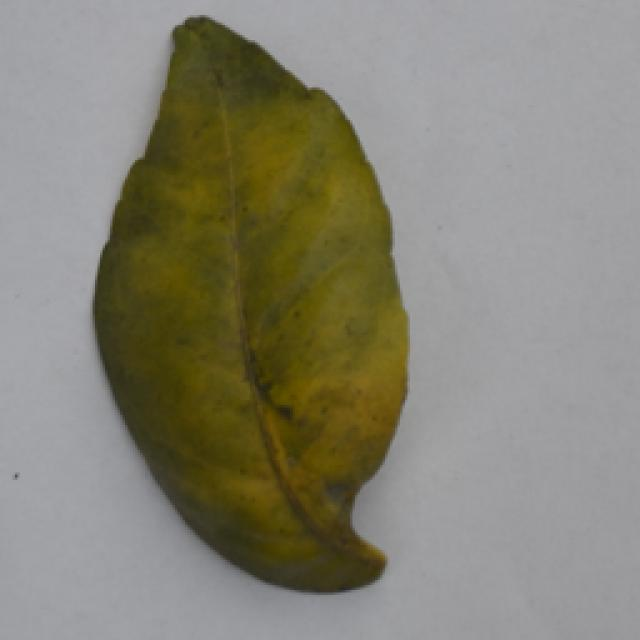blackspot: (91, 13, 446, 610)
